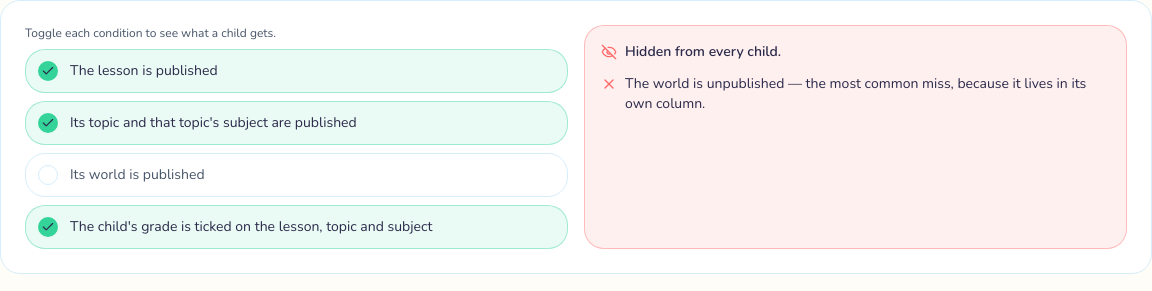
VisibilityChecker › opens on the unpublished-world mistake and clears once it is fixed
Expected: the text "Hidden from every child." is shown, [601, 42, 781, 61]
Expected: the list item "The world is unpublished" is shown, [625, 74, 1086, 113]
Click the button "Its world is published" at (137, 174), box [25, 153, 568, 197]
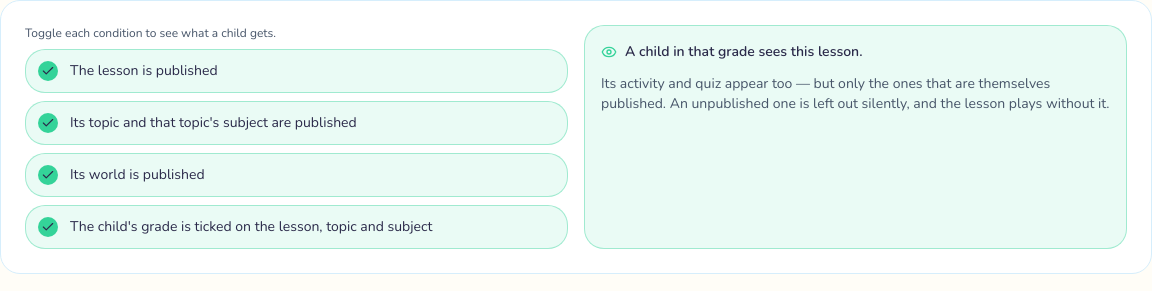
Now the text "A child in that grade sees this lesson." is shown, box [601, 42, 862, 61]
Now the list item "The world is unpublished" is gone
